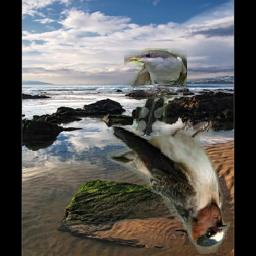Cuckoo: (125, 48, 188, 136)
Swallow: (108, 118, 231, 255)
